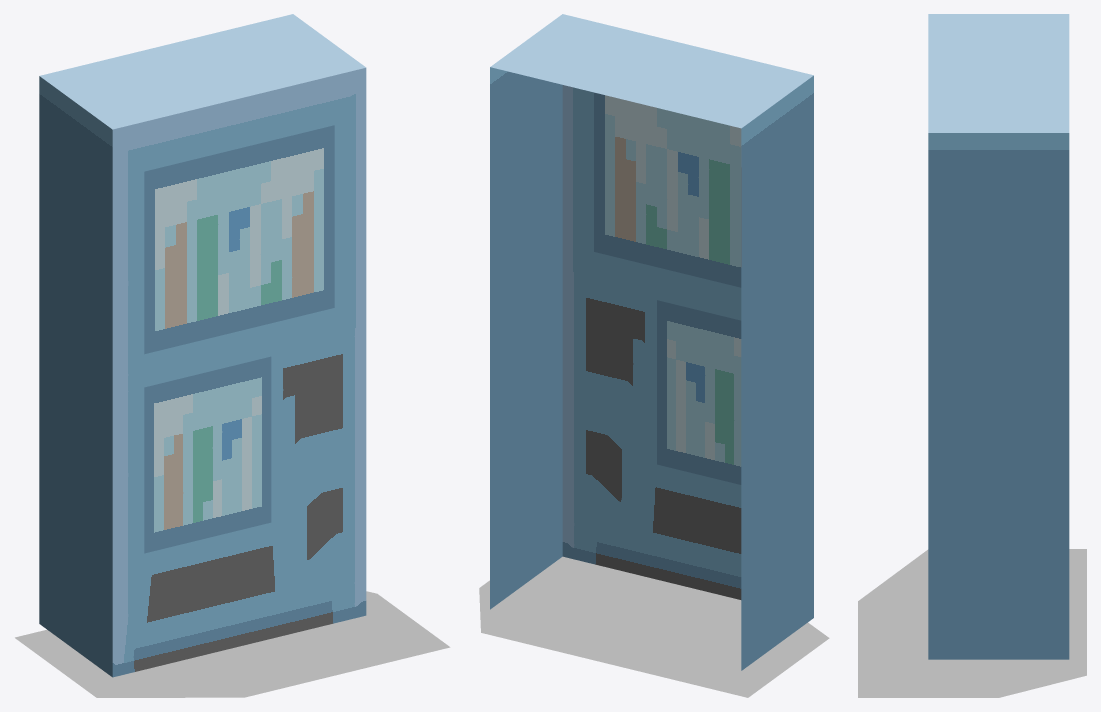
The model's file is Indoor Vending Machine.obj.
The picture shows the model from 3 angles, left to right: view 1: azimuth 30°, elevation 25°; view 2: azimuth 150°, elevation 25°; view 3: azimuth 270°, elevation 25°; orthographic projection. The views are drawn at different scales.
Parts seen in each view (by area): view 1: polygon1, polygon0; view 2: polygon1, polygon0; view 3: polygon1, polygon0.
Part boxes in pixels (left/top/right/bottom): polygon1: left=39, top=14, right=366, bottom=677; polygon0: left=15, top=591, right=450, bottom=697; polygon1: left=490, top=14, right=813, bottom=670; polygon0: left=479, top=556, right=829, bottom=697; polygon1: left=928, top=14, right=1069, bottom=659; polygon0: left=858, top=549, right=1086, bottom=697.
Bounding box in the file's own units: 20 × 34 × 13.
